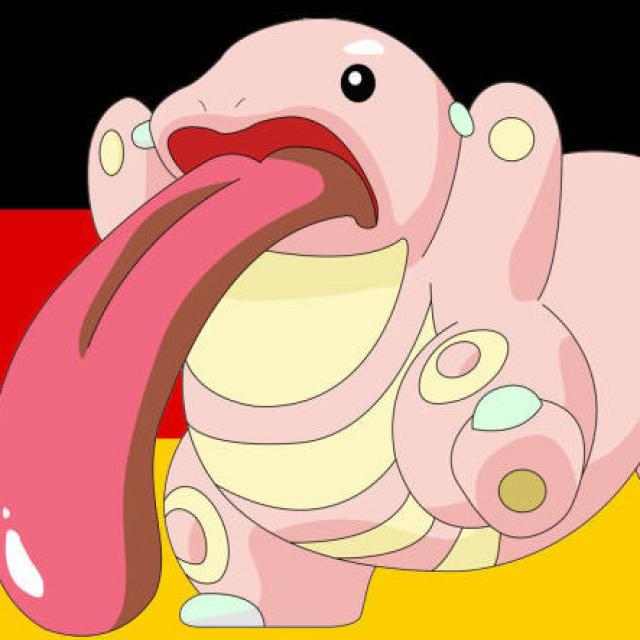Lickitung: (73, 27, 600, 588)
